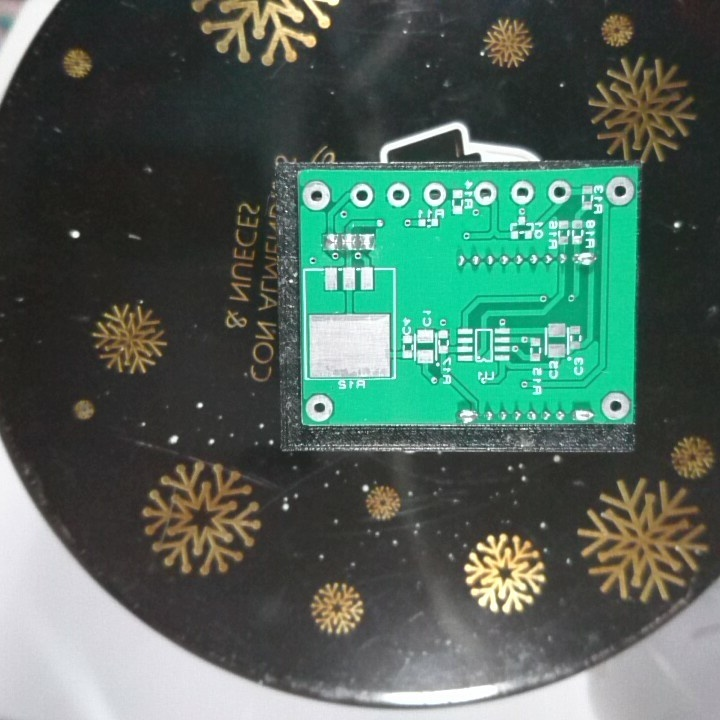F: (603, 175, 636, 209), (301, 179, 335, 212), (599, 389, 632, 420), (303, 391, 337, 421), (545, 178, 573, 206), (471, 180, 500, 207), (422, 180, 448, 207), (348, 182, 376, 207), (383, 181, 408, 208), (507, 180, 536, 203)
P: (569, 405, 595, 423), (454, 406, 479, 423), (575, 249, 599, 265)
